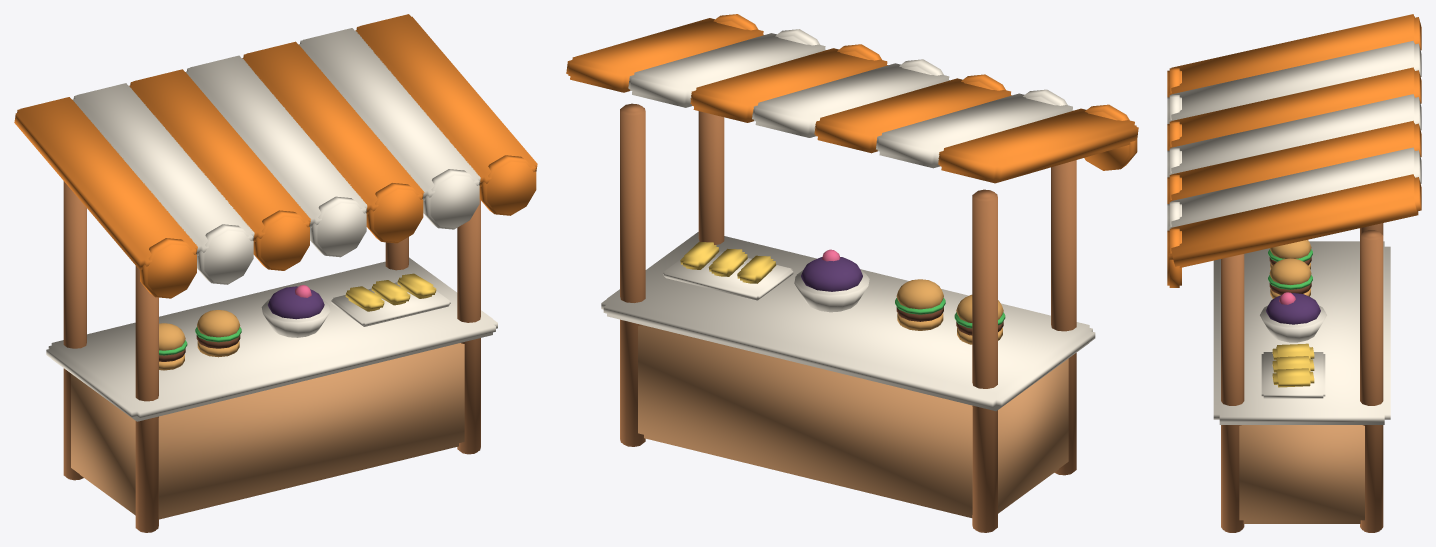
File: MarketStall_Comida.fbx
3 renders of one model, left to right at view 1: azimuth 30°, elevation 25°; view 2: azimuth 150°, elevation 25°; view 3: azimuth 270°, elevation 25°, orthographic. The views are drawn at different scales.
Parts seen in each view (by area): view 1: MarketStall_Comida; view 2: MarketStall_Comida; view 3: MarketStall_Comida.
Part boxes in pixels (x1,y1,x2,y2): MarketStall_Comida: (14, 14, 537, 532); MarketStall_Comida: (566, 14, 1138, 532); MarketStall_Comida: (1167, 14, 1421, 532).
Bounding box in the file's own units: 3.05 × 2.65 × 1.75.
